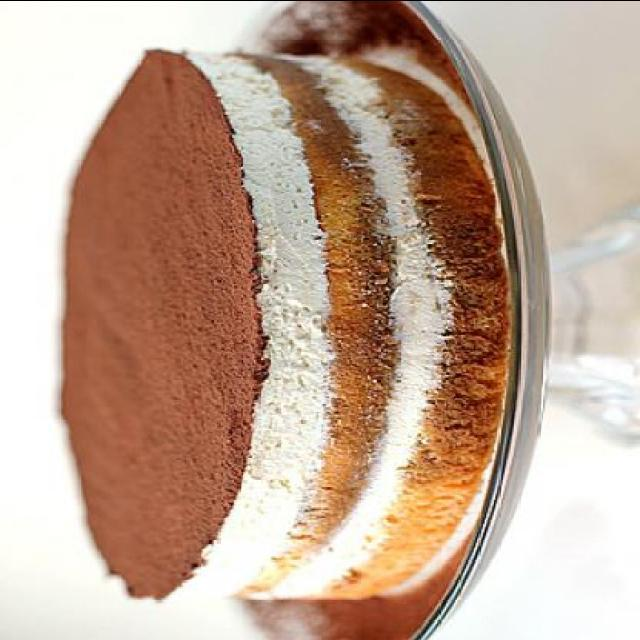Tiramisu: (37, 51, 494, 603)
